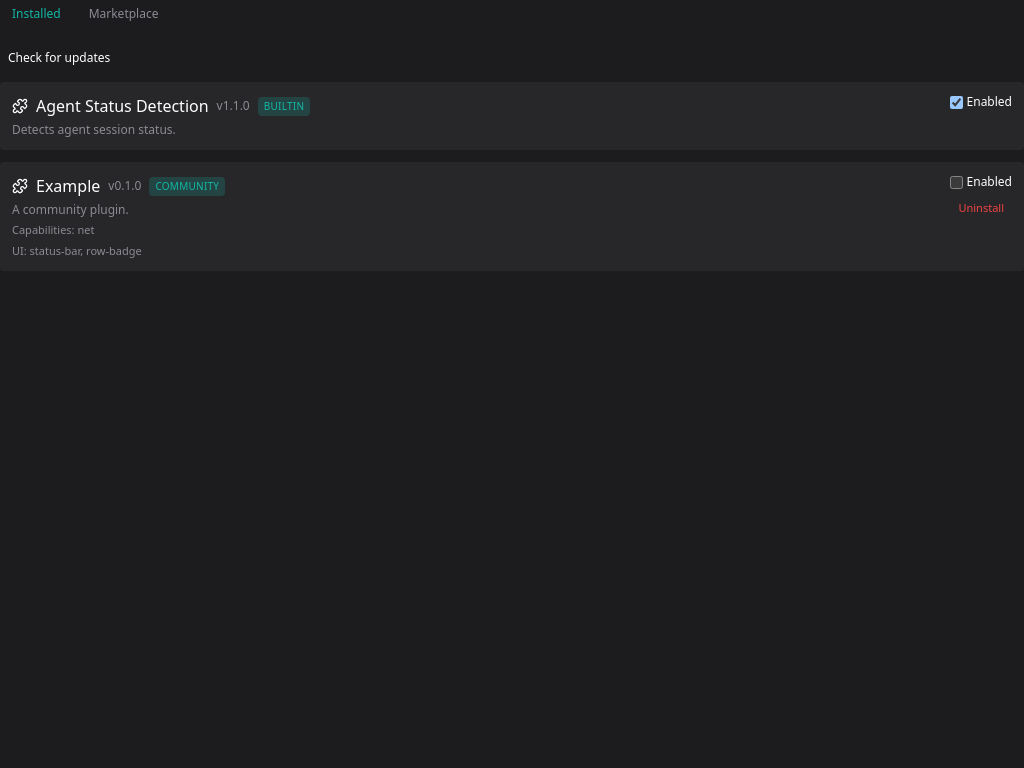
Test: PluginsSettings › clicking an installed plugin opens the detail modal and closes it
This screenshot has width=1024, height=768.
Click the button with test id "plugin-open-example.plugin".
click(68, 186)  # box [36, 174, 100, 198]
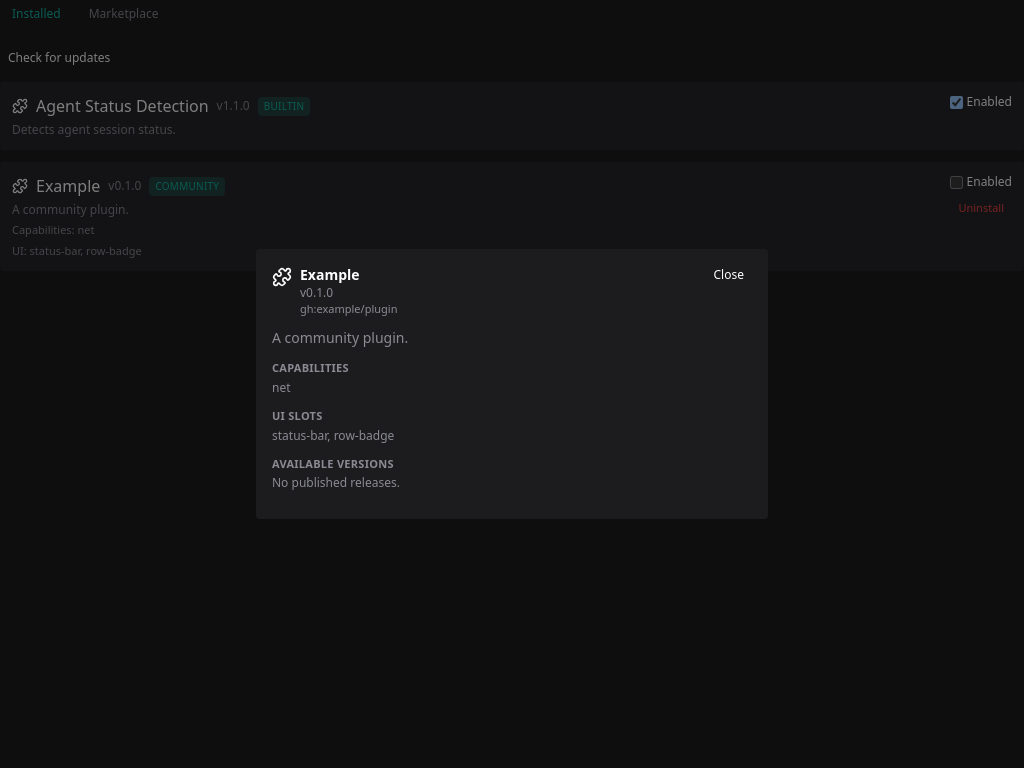
Result: the dialog with test id "plugin-detail-modal" shows "v0.1.0"
Click the button with test id "plugin-detail-close".
click(729, 275)  # box [706, 265, 752, 285]
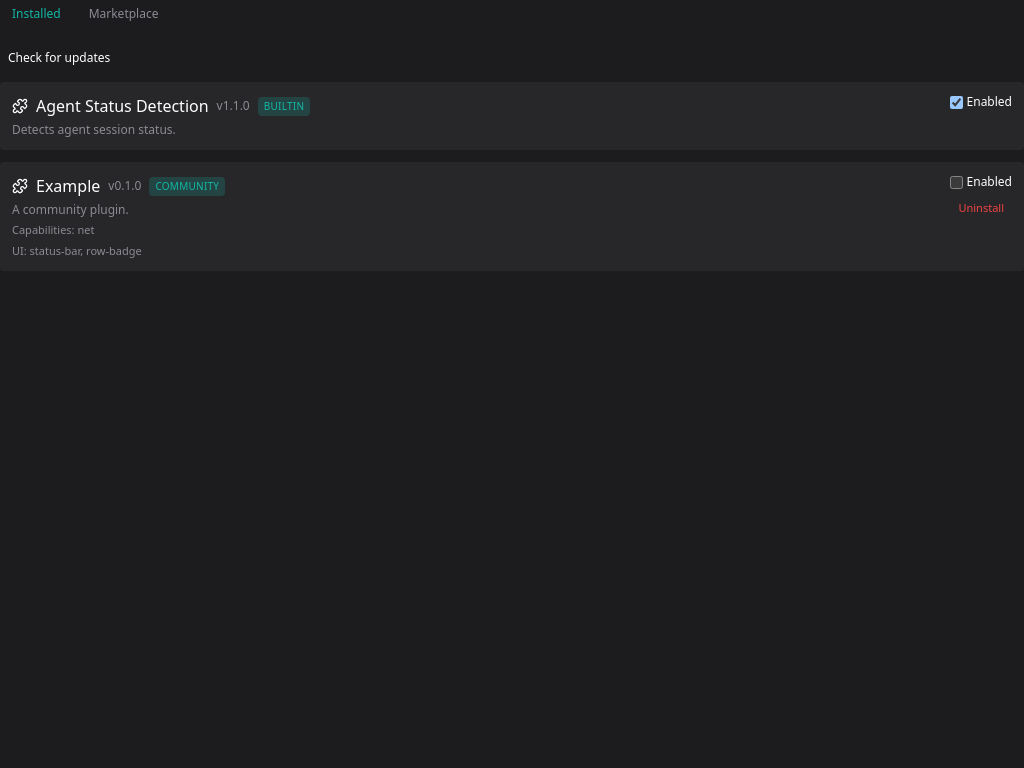
Result: the dialog with test id "plugin-detail-modal" is gone
